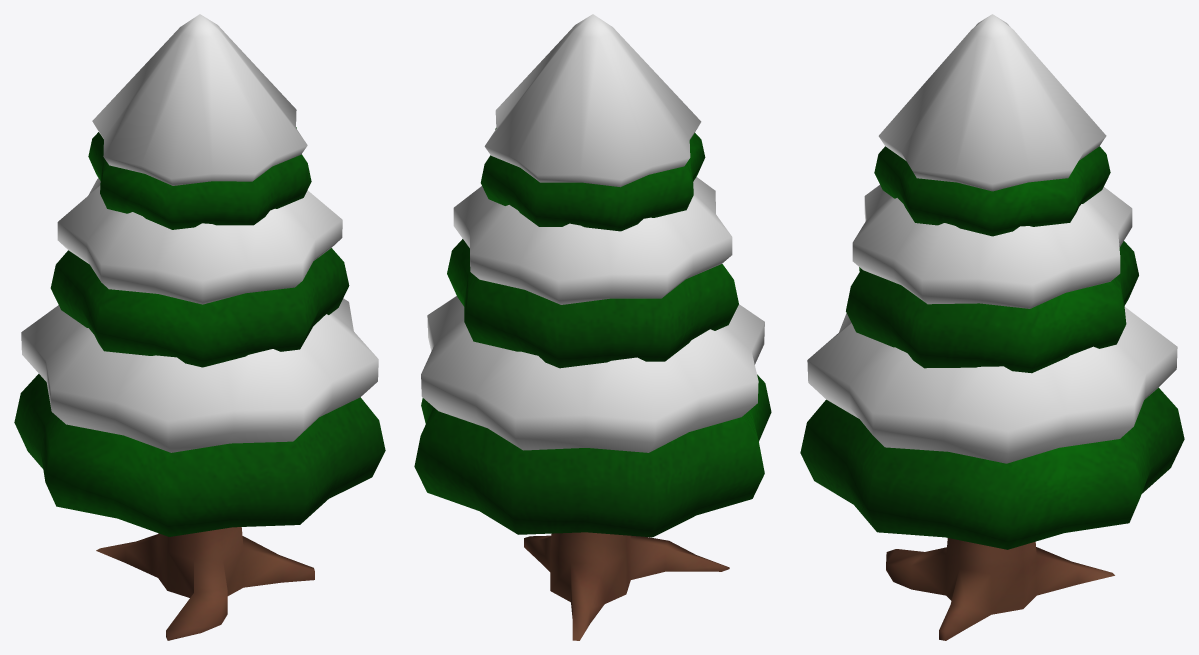
The model's file is winter_fir tree.002.fbx.
The picture shows the model from 3 angles, left to right: view 1: azimuth 30°, elevation 25°; view 2: azimuth 150°, elevation 25°; view 3: azimuth 270°, elevation 25°; orthographic projection. The views are drawn at different scales.
Visible parts, largest first — view 1: fir tree.002; view 2: fir tree.002; view 3: fir tree.002.
Part boxes in pixels (x1,y1,x2,y2): fir tree.002: (14, 14, 385, 640); fir tree.002: (414, 14, 771, 640); fir tree.002: (800, 14, 1184, 640).
Bounding box in the file's own units: 7.29 × 12.17 × 7.29.
